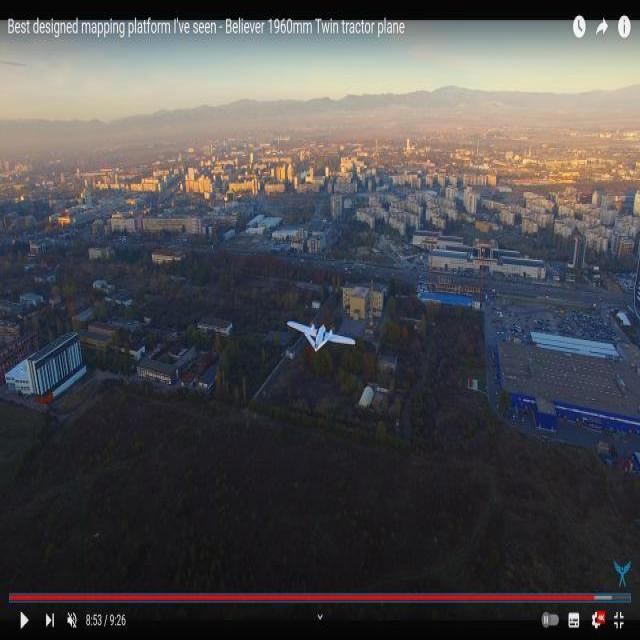iha: (326, 344, 349, 356)
